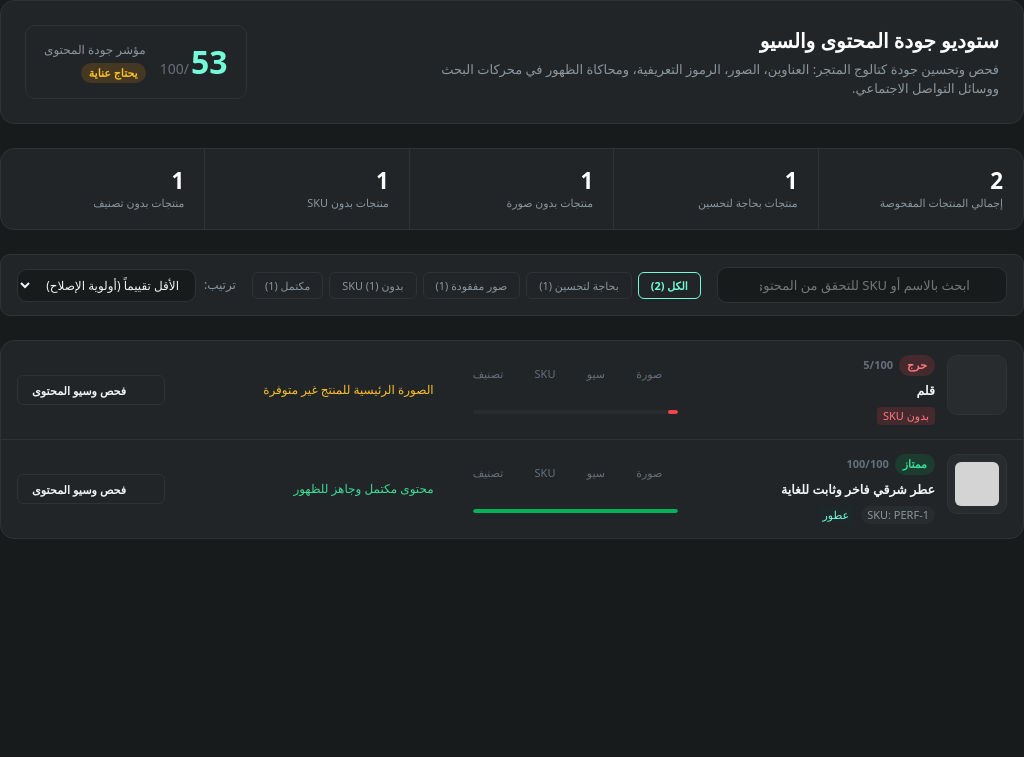
Test case: ContentStudio › opens ContentEnhancerModal when clicking examine button
Click the button "فحص وسيو المحتوى" next to "الصورة الرئيسية للمنتج غير متوفرة".
click(91, 390)  # box [17,375,165,405]
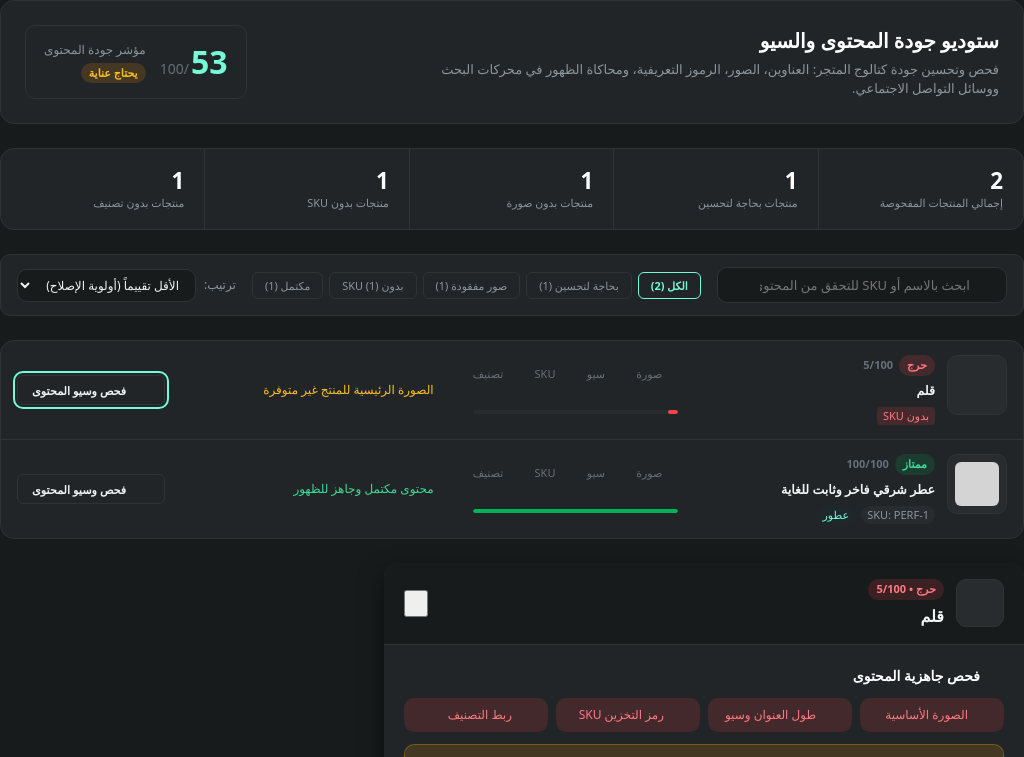
Result: the heading "فحص جاهزية المحتوى" is shown at [853,666,980,685]
